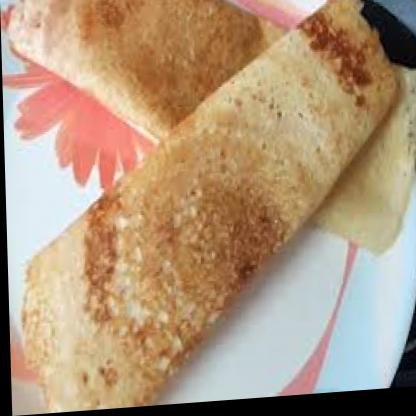dosa: (10, 0, 405, 415), (5, 0, 416, 281)
